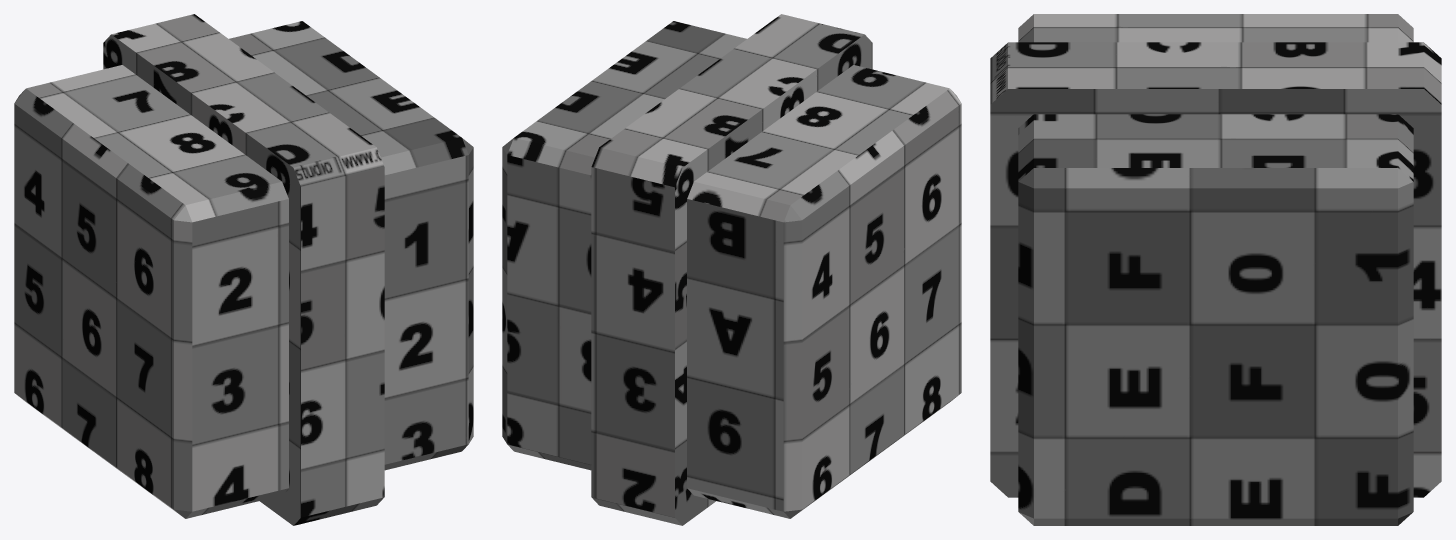
The model's file is Ruin3.fbx.
The picture shows the model from 3 angles, left to right: view 1: azimuth 30°, elevation 25°; view 2: azimuth 150°, elevation 25°; view 3: azimuth 270°, elevation 25°; orthographic projection. The views are drawn at different scales.
Parts seen in each view (by area): view 1: pCube2; view 2: pCube2; view 3: pCube2.
Part boxes in pixels (x1,y1,x2,y2): pCube2: [14, 14, 473, 525]; pCube2: [502, 14, 961, 525]; pCube2: [990, 14, 1441, 525].
Size of the model in its own units: 20 by 22.83 by 22.83.
Materials: 1 (1 with a texture image).
